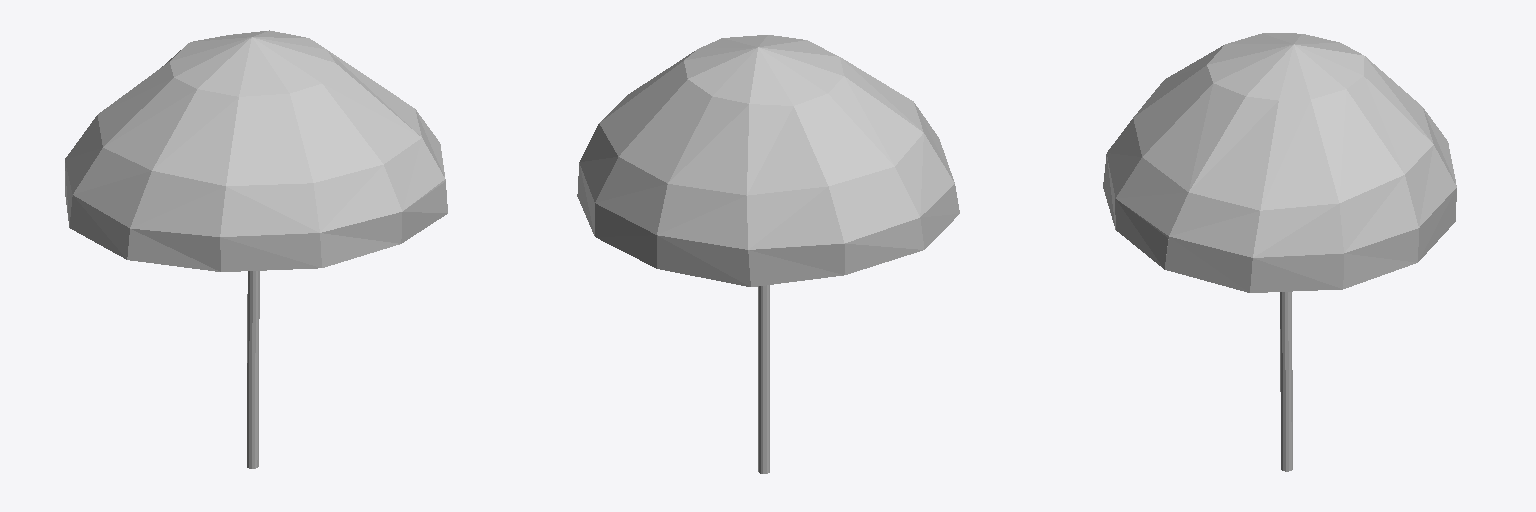
3 renders of one model, left to right at view 1: azimuth 30°, elevation 25°; view 2: azimuth 150°, elevation 25°; view 3: azimuth 270°, elevation 25°, orthographic.
Visible parts, largest first — view 1: group[number redacted], group[number redacted]; view 2: group[number redacted], group[number redacted]; view 3: group[number redacted], group[number redacted].
Boxes of the visible parts, x1=… form: group[number redacted]: x1=65, y1=30, x2=447, y2=271; group[number redacted]: x1=247, y1=271, x2=259, y2=468; group[number redacted]: x1=577, y1=35, x2=959, y2=286; group[number redacted]: x1=758, y1=285, x2=769, y2=473; group[number redacted]: x1=1103, y1=33, x2=1456, y2=292; group[number redacted]: x1=1280, y1=292, x2=1292, y2=471.
Size of the model in its own units: 0.5675 by 0.6732 by 0.5069.